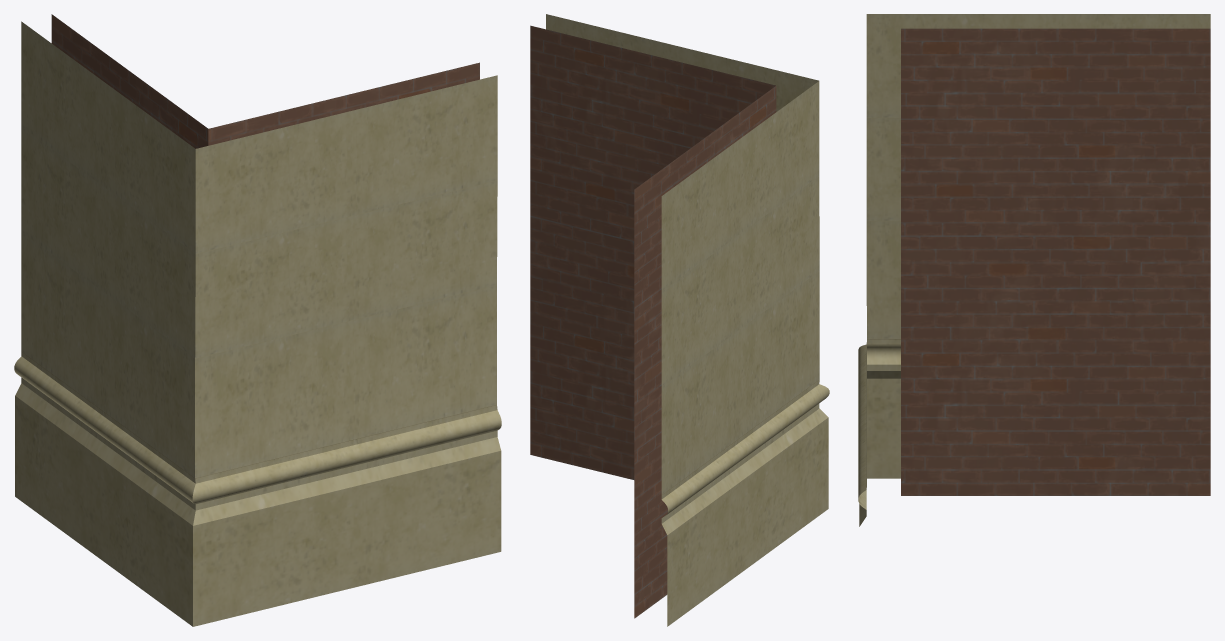
File: trim_corner.glb
The picture shows the model from 3 angles, left to right: view 1: azimuth 30°, elevation 25°; view 2: azimuth 150°, elevation 25°; view 3: azimuth 270°, elevation 25°; orthographic projection. The views are drawn at different scales.
Visible parts, largest first — view 1: Trim_Corner; view 2: Trim_Corner; view 3: Trim_Corner.
Part boxes in pixels (left/top/right/bottom): Trim_Corner: left=14, top=14, right=501, bottom=626; Trim_Corner: left=530, top=14, right=829, bottom=626; Trim_Corner: left=858, top=14, right=1210, bottom=526.
Size of the model in its own units: 2.05 by 3 by 2.05.
Materials: 2 (2 with a texture image).
